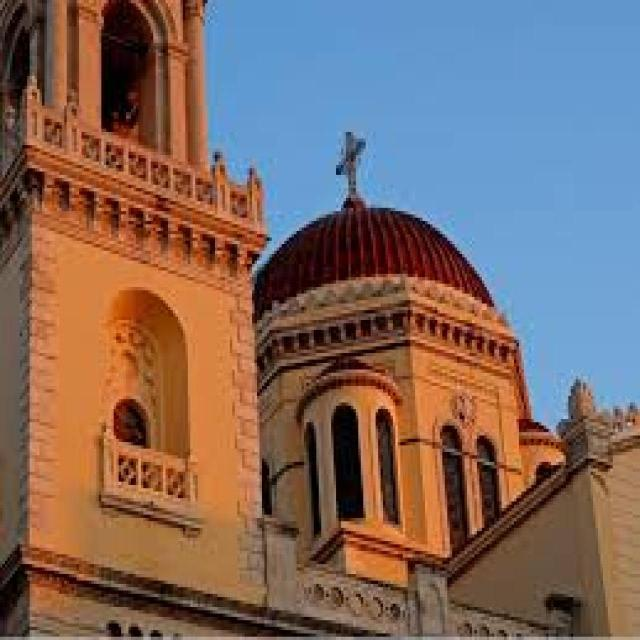Agios Minas: (1, 1, 640, 640)
